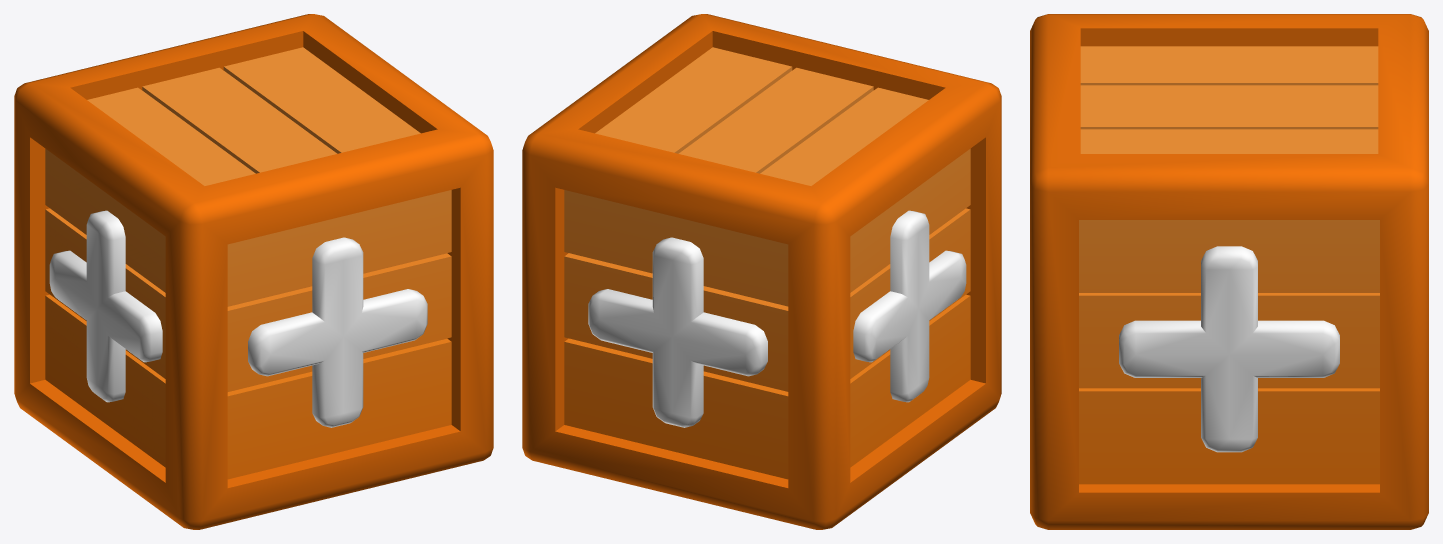
File: Prop_Crate_04.fbx
3 renders of one model, left to right at view 1: azimuth 30°, elevation 25°; view 2: azimuth 150°, elevation 25°; view 3: azimuth 270°, elevation 25°, orthographic. The views are drawn at different scales.
Visible parts, largest first — view 1: Prop_Crate_04; view 2: Prop_Crate_04; view 3: Prop_Crate_04.
Boxes of the visible parts, box(x1,y1,x2,y2) form: Prop_Crate_04: box(14, 14, 493, 529); Prop_Crate_04: box(522, 14, 1001, 529); Prop_Crate_04: box(1030, 14, 1428, 529).
Bounding box in the file's own units: 120 × 119 × 119.
